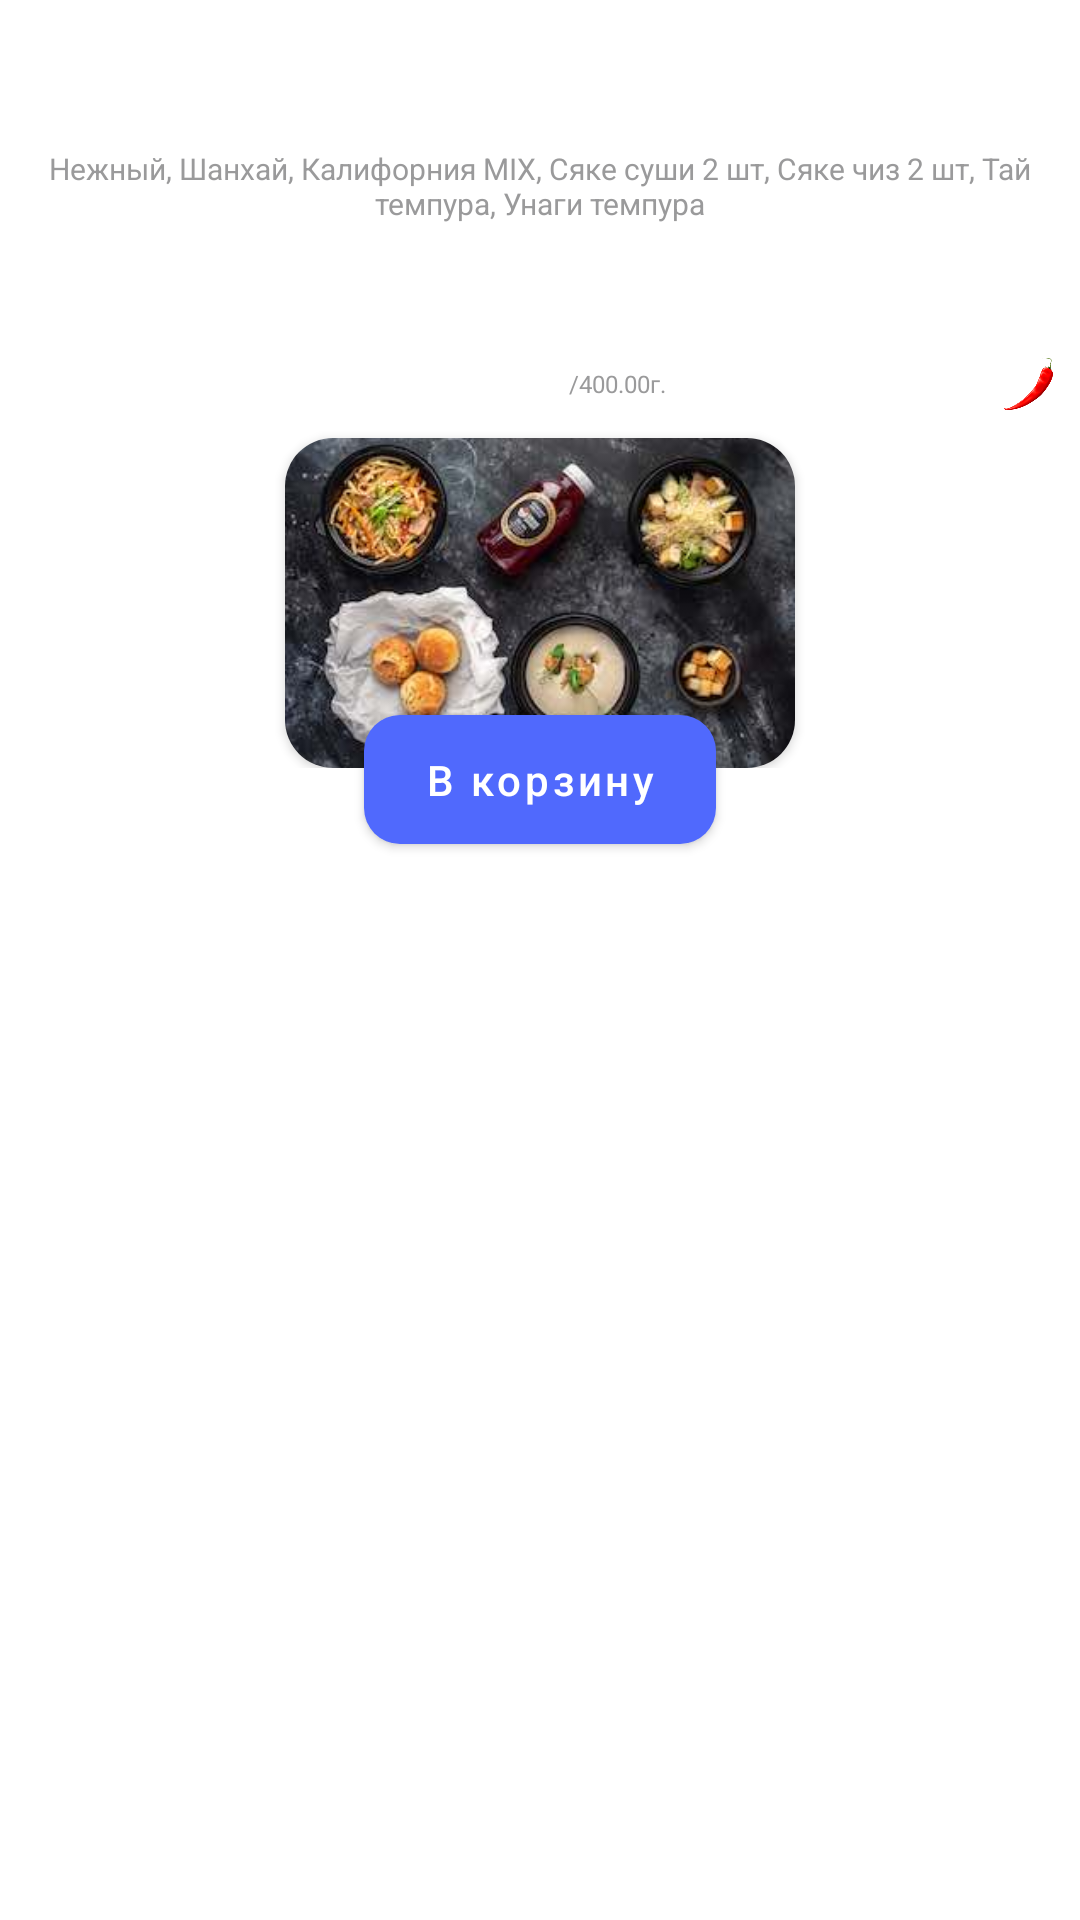

Point at icon controls on the screen. Image size 1080px×1920px, points as [x,y].
spicy: [1028,384]
